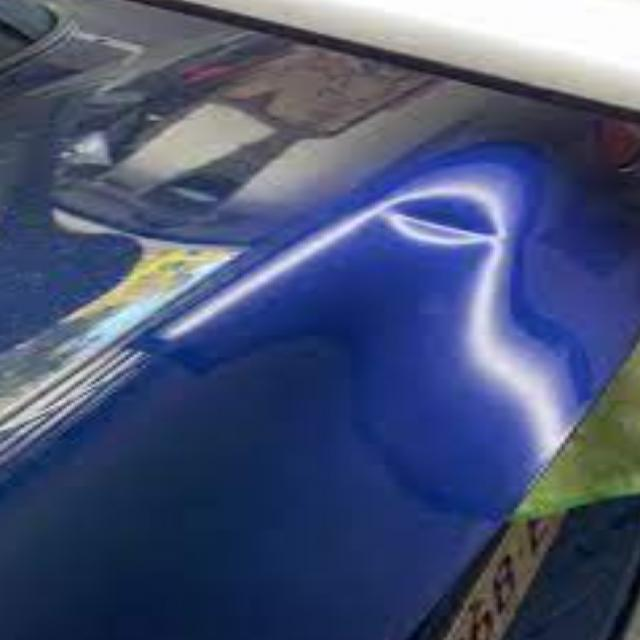dents: (346, 175, 539, 265)
